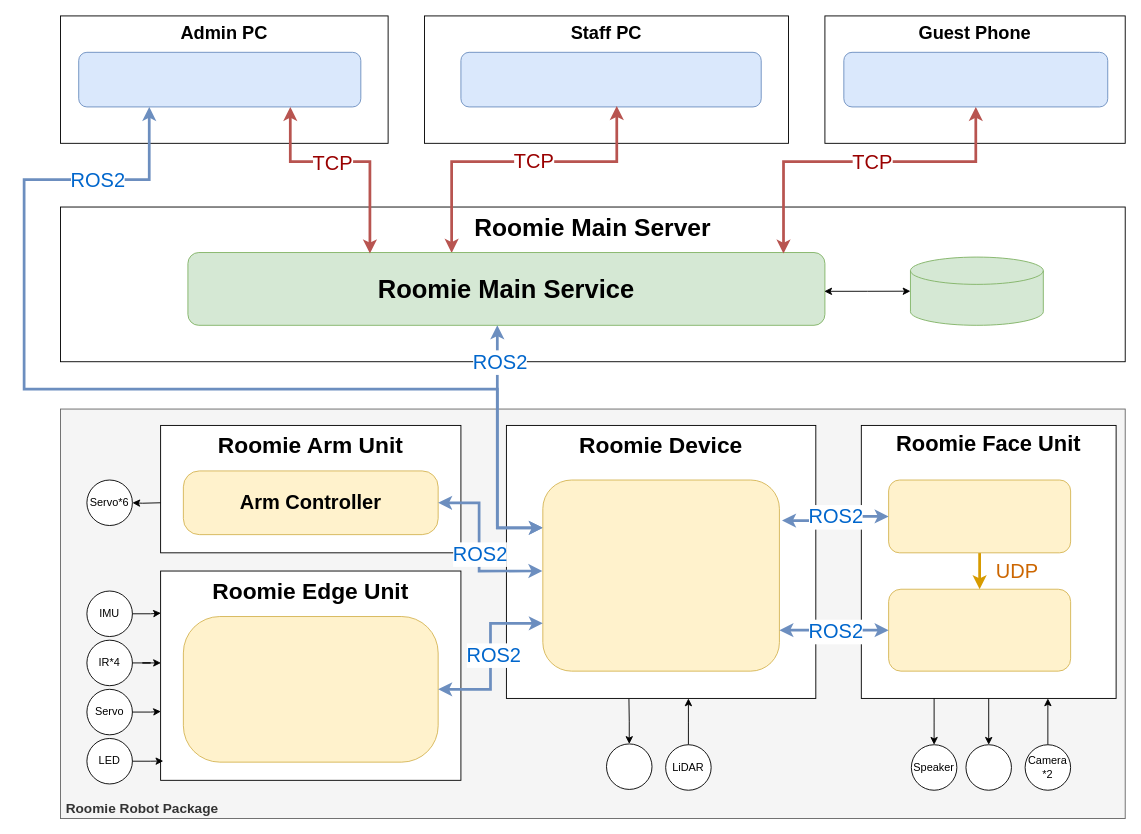
This 1141x834 diagram has some shape labels left out. Here are the shapes that lost their labels. From the top down, the centre of each, then its label:
At point (219, 79): "Admin GUI".
At point (610, 79): "Staff GUI".
At point (975, 79): "Guest GUI".
At point (976, 290): "Roomie DB".
At point (979, 516): "Vision Service".
At point (660, 575): "Roomie Controller".
At point (979, 629): "Robot GUI".
At point (310, 689): "IO Controller".
At point (629, 766): "DC Motor*2".
At point (988, 767): "Display".
